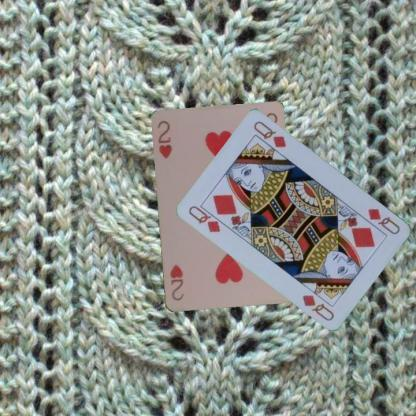2h: (154, 118, 174, 160)
Qd: (186, 202, 229, 234), (366, 206, 402, 236)
